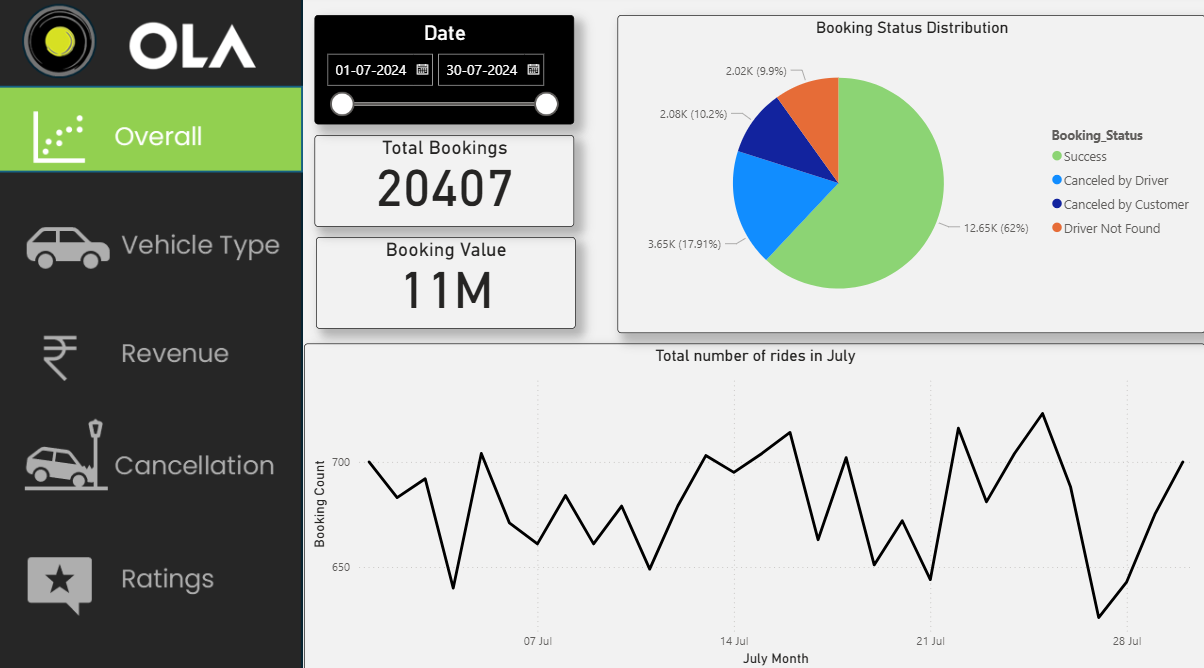

The dashboard page shown, as its layout file describes it:
{"tool":"powerbi","page":{"name":"Overall","canvas":[1280,720],"ordinal":0},"visuals":[{"type":"actionButton","box":[0,217.9,322.9,89.1],"z":0},{"type":"actionButton","box":[0,217.9,322.9,89.1],"z":1000},{"type":"actionButton","box":[1.6,450.1,322.9,89.1],"z":2000},{"type":"actionButton","box":[0,342,322.9,89.1],"z":3000},{"type":"actionButton","box":[1.6,586.9,322.9,89.1],"z":4000},{"type":"lineChart","title":"Total number of rides in July","fields":{"Y":["CountNonNull(Bookings.Booking_ID)"],"Category":["Bookings.Date.Variation.Date Hierarchy.Year","Bookings.Date.Variation.Date Hierarchy.Quarter","Bookings.Date.Variation.Date Hierarchy.Month","Bookings.Date.Variation.Date Hierarchy.Day"]},"box":[324.5,370.6,956,349.9],"z":5000},{"type":"pieChart","title":"Booking Status Distribution","fields":{"Category":["Bookings.Booking_Status"],"Y":["CountNonNull(Bookings.Booking_Status)"]},"box":[656.9,22.3,623.5,337.2],"z":6000},{"type":"slicer","title":"Date","fields":{"Values":["Bookings.Date"]},"box":[335.6,22.3,275.2,116.1],"z":7000},{"type":"card","title":"Total Bookings","fields":{"Values":["CountNonNull(Bookings.Booking_ID)"]},"box":[335.6,149.5,275.2,97],"z":8000},{"type":"card","title":"Booking Value","fields":{"Values":["Sum(Bookings.Booking_Value)"]},"box":[337.2,257.7,275.2,97],"z":9000}]}

Visuals, with their boxes in screenshot pixels (x1, y1, x2, y2), scaled from the page's 1280x720 canvas onto the 1204x668 screenshot:
actionButton: (x1=0, y1=202, x2=304, y2=285)
actionButton: (x1=0, y1=202, x2=304, y2=285)
actionButton: (x1=2, y1=418, x2=305, y2=500)
actionButton: (x1=0, y1=317, x2=304, y2=400)
actionButton: (x1=2, y1=545, x2=305, y2=627)
"Total number of rides in July" lineChart: (x1=305, y1=344, x2=1203, y2=667)
"Booking Status Distribution" pieChart: (x1=618, y1=21, x2=1203, y2=334)
"Date" slicer: (x1=316, y1=21, x2=575, y2=128)
"Total Bookings" card: (x1=316, y1=139, x2=575, y2=229)
"Booking Value" card: (x1=317, y1=239, x2=576, y2=329)
